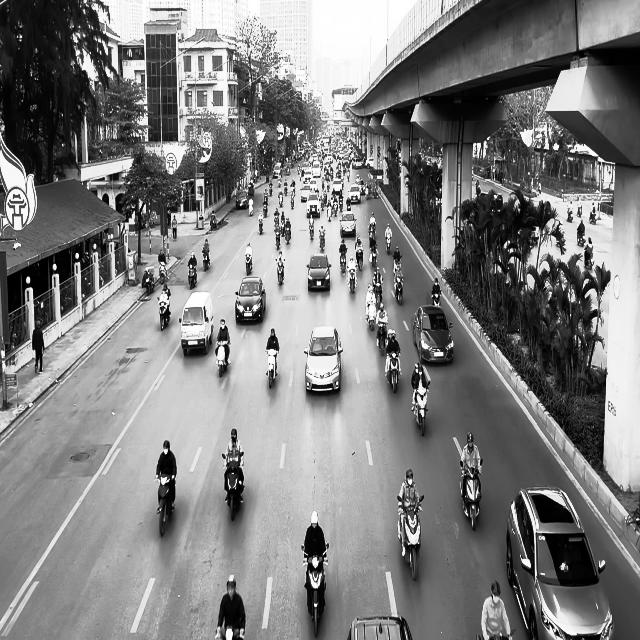car: (506, 486, 614, 640), (303, 325, 343, 393), (412, 305, 454, 363), (178, 291, 214, 356), (347, 615, 412, 640), (234, 276, 266, 323), (306, 252, 331, 291), (339, 211, 356, 237), (306, 192, 321, 217), (235, 190, 249, 210), (348, 184, 361, 203)
motorbike: (301, 543, 329, 637), (397, 494, 424, 581), (460, 458, 482, 530), (222, 451, 244, 521), (155, 472, 175, 537), (412, 382, 430, 436), (385, 350, 401, 393), (216, 339, 230, 377), (266, 349, 278, 388), (158, 295, 170, 331), (377, 321, 388, 356), (393, 274, 404, 304), (366, 301, 376, 330), (144, 267, 154, 295), (276, 258, 285, 286), (347, 266, 356, 292), (584, 247, 594, 270), (188, 264, 197, 289), (158, 262, 168, 284), (339, 247, 347, 274), (202, 246, 210, 271), (355, 246, 363, 270), (431, 288, 441, 306), (245, 252, 252, 276), (274, 226, 281, 249), (577, 227, 585, 246), (385, 232, 392, 253), (258, 213, 264, 235), (309, 214, 314, 239), (210, 215, 217, 230), (589, 210, 597, 223), (567, 208, 573, 222)
